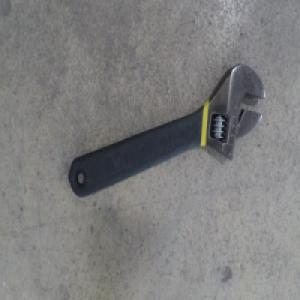AdjustableWrench: (67, 64, 264, 201)
